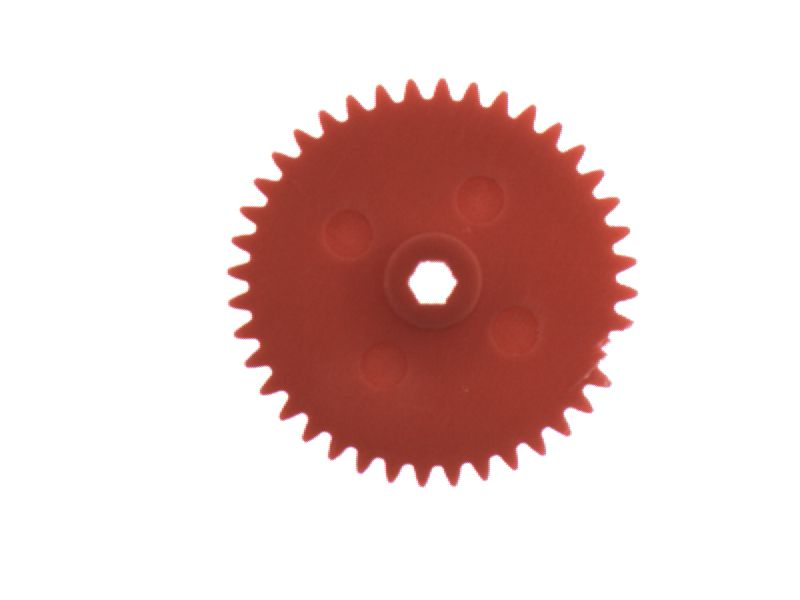defect_lack: (581, 317, 646, 384)
